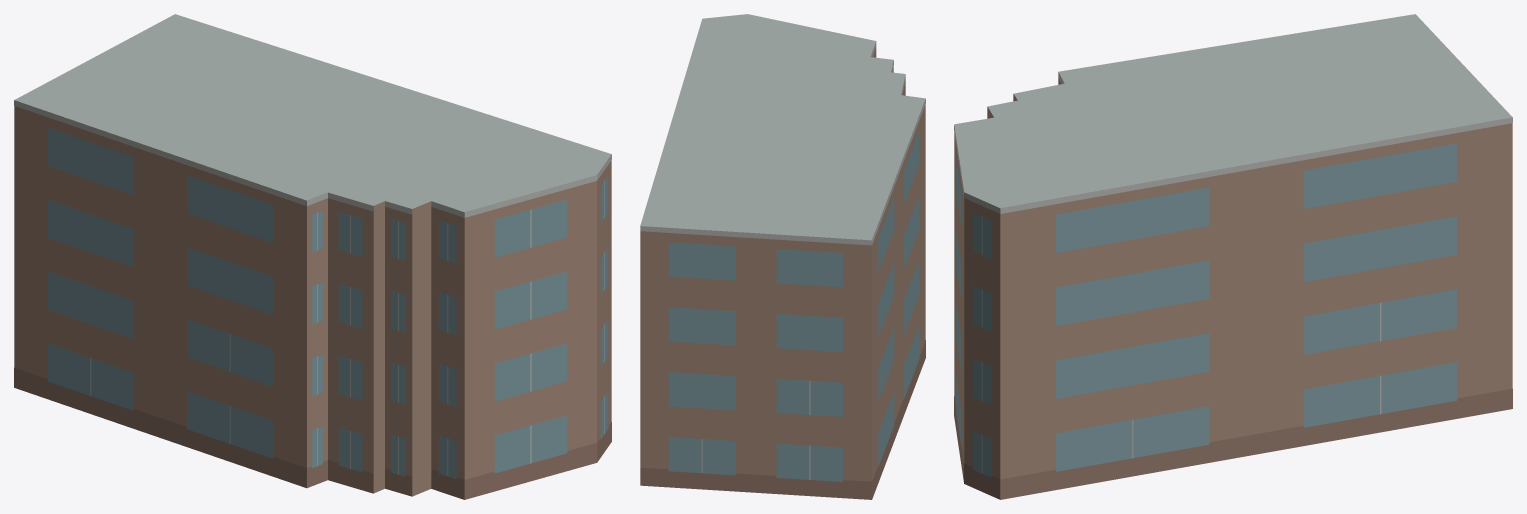
The model's file is survey-upis-33045676.glb.
3 views of the same model, side by side, from view 1: azimuth 30°, elevation 25°; view 2: azimuth 150°, elevation 25°; view 3: azimuth 270°, elevation 25° (orthographic). The views are drawn at different scales.
Visible parts, largest first — view 1: survey-upis-33045676.tmp; view 2: survey-upis-33045676.tmp; view 3: survey-upis-33045676.tmp.
Part boxes in pixels (x1,y1,x2,y2): survey-upis-33045676.tmp: (14,14,611,499); survey-upis-33045676.tmp: (640,14,925,499); survey-upis-33045676.tmp: (954,14,1512,499).
Size of the model in its own units: 17.73 by 12.4 by 21.54.
